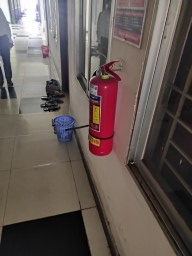fire_extinguisher: (45, 92, 117, 139)
